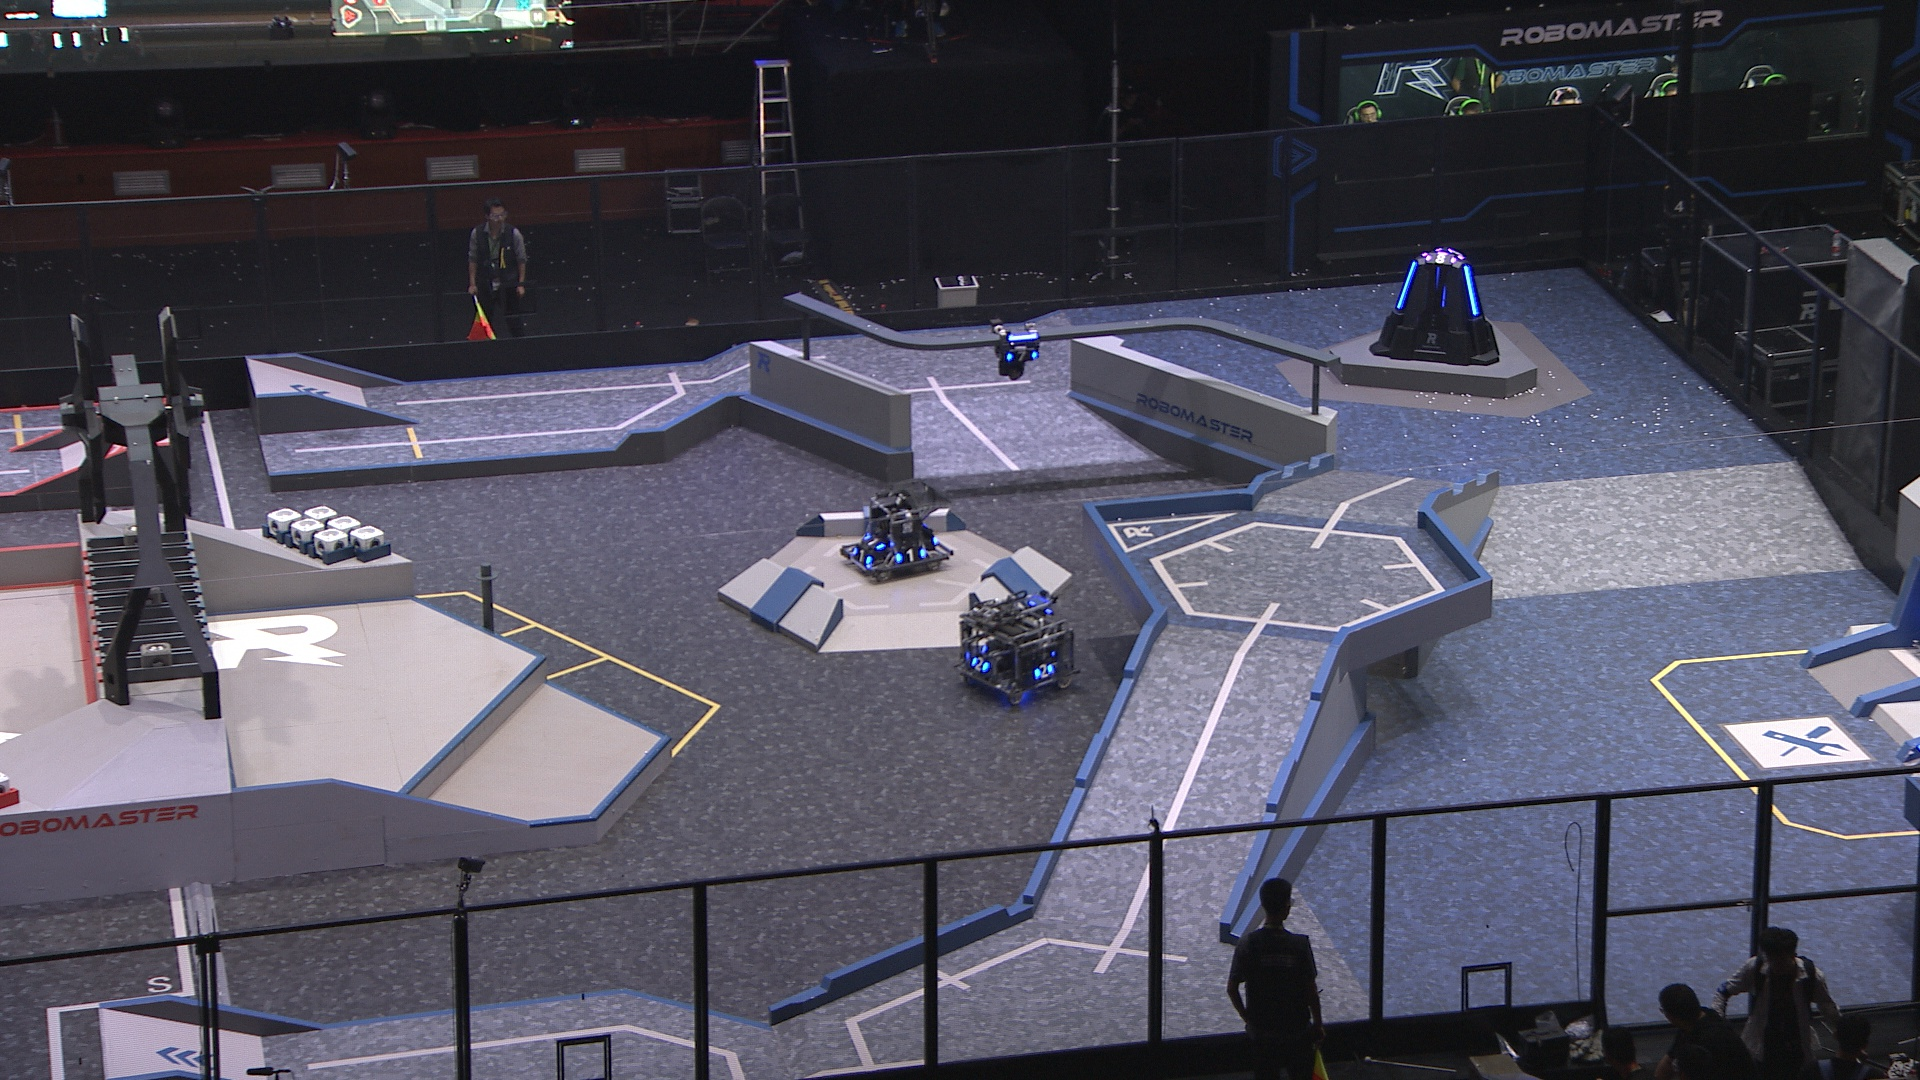armor: (1395, 257, 1418, 310), (1462, 266, 1480, 314), (891, 546, 923, 564), (1005, 347, 1040, 363), (851, 547, 874, 566), (1033, 662, 1058, 679), (862, 534, 884, 551), (971, 655, 989, 671)
base: (1370, 240, 1505, 368)
car: (959, 589, 1077, 705), (839, 484, 953, 593)
ignore: (1425, 251, 1458, 264)
watcher: (986, 319, 1046, 382)
